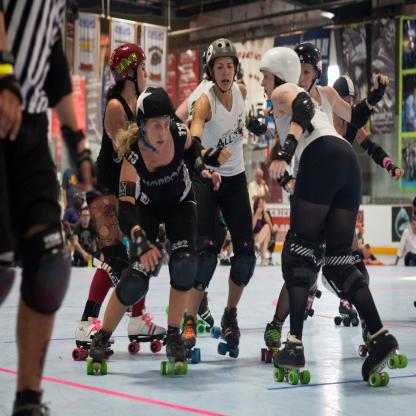Helmet: (132, 86, 173, 151), (109, 42, 147, 101), (204, 42, 245, 91), (291, 45, 324, 95), (258, 48, 298, 88), (331, 77, 354, 103)
